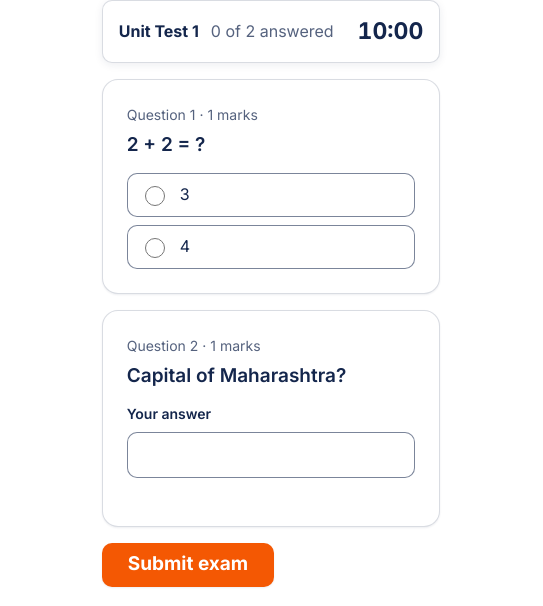
exam: countdown from the server deadline, autosave, offline notice
The width and height of the screenshot is (543, 606).
Check: the text "10:00" is shown, box top-left (358, 13), bottom-right (423, 50)
Click the radio button labelled "4": coordinates (155, 248) top-left (145, 238), bottom-right (165, 258)
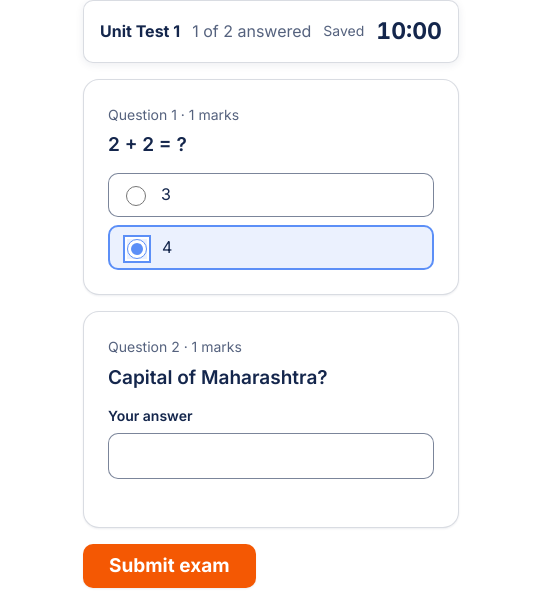
Check: the text "Saved" is shown, box top-left (323, 20), bottom-right (364, 43)
In the field labelled "Your answer": coordinates (271, 456) top-left (108, 433), bottom-right (434, 479), type "Mumbai"
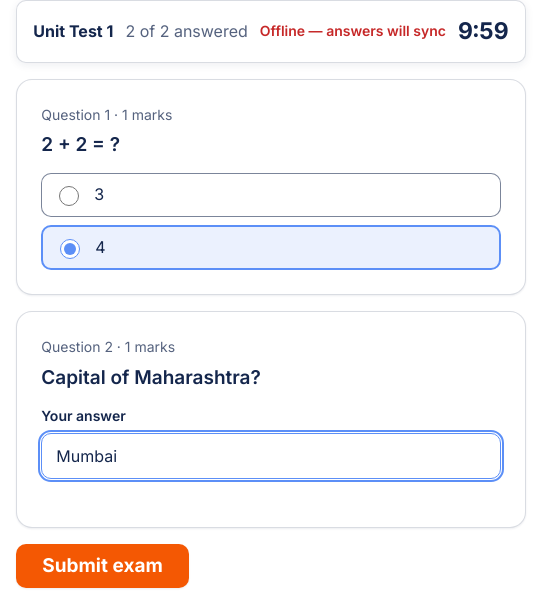
Check: the text "Offline — answers will sync" is shown, box top-left (260, 20), bottom-right (446, 43)
